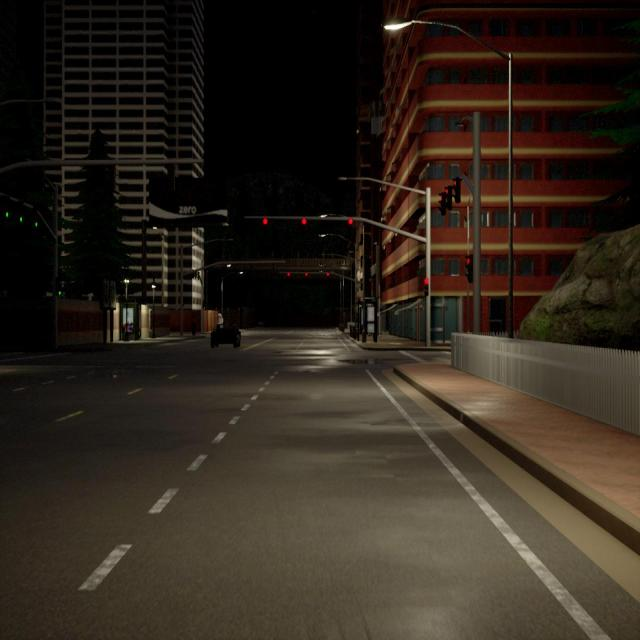Pedestrian: (190, 314, 197, 336)
Vehicle: (211, 324, 241, 348), (218, 313, 224, 324)
traffic_light: (465, 255, 473, 283), (452, 177, 460, 203), (438, 192, 446, 216), (445, 186, 453, 210), (56, 278, 61, 298), (35, 209, 39, 227), (424, 279, 428, 296), (6, 196, 9, 217), (20, 201, 23, 222), (262, 217, 268, 225), (301, 217, 307, 225), (348, 218, 354, 225), (287, 272, 291, 277), (304, 272, 308, 277), (326, 272, 330, 277)
